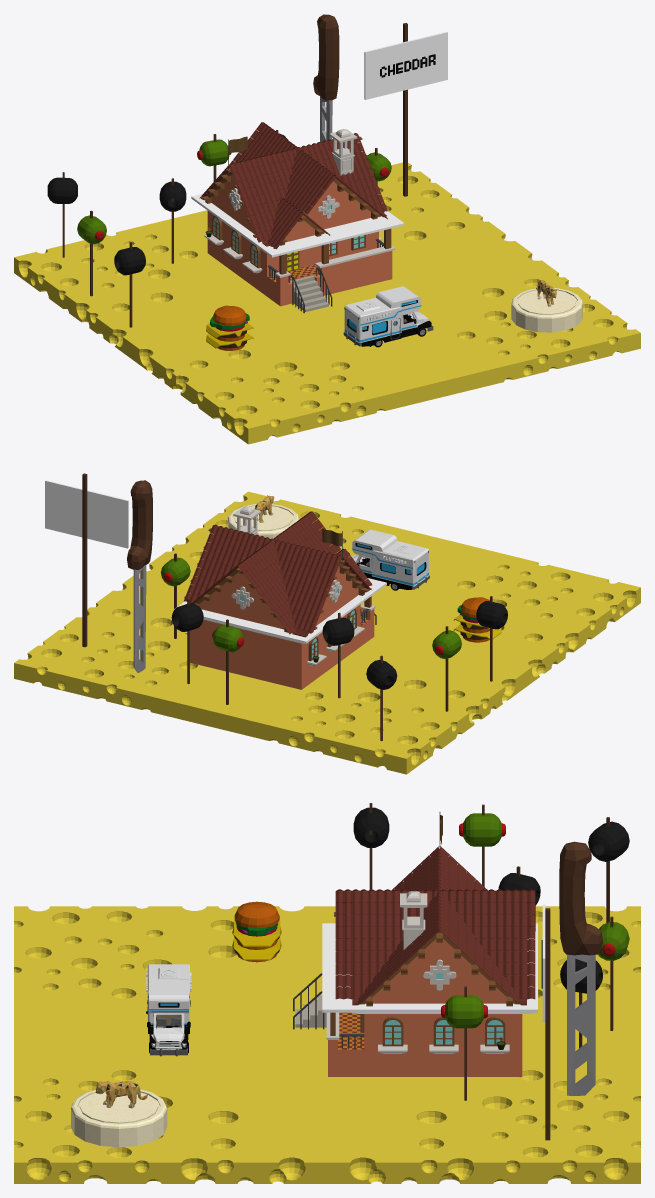
3 views of the same model, one above another, from view 1: azimuth 30°, elevation 25°; view 2: azimuth 150°, elevation 25°; view 3: azimuth 270°, elevation 25° (orthographic). The views are drawn at different scales.
Visible parts, largest first — view 1: Cube.022, Cube.1141, Cube.023, VEHICLES_CAMPER, Cylinder.016, Cube.024, OBJRANDOM_HAMBURGER, Sphere.017, Sphere.016, Sphere.020, Sphere.018, Sphere.022; view 2: Cube.022, Cube.1141, Cube.023, VEHICLES_CAMPER, Cube.024, Cylinder.016, OBJRANDOM_HAMBURGER, Sphere.017, Sphere.020, Sphere.021, Sphere.016, Sphere.018 (+2 smaller); view 3: Cube.022, Cube.1141, Cube.024, Cylinder.016, VEHICLES_CAMPER, OBJRANDOM_HAMBURGER, Cube.023, Sphere.019, Sphere.016, Sphere.018, Sphere.017, Sphere.022 (+3 smaller).
Boxes of the visible parts, x1,y1,x2,y2 form: Cube.022: (14, 162, 640, 444); Cube.1141: (191, 122, 404, 313); Cube.023: (364, 23, 447, 196); VEHICLES_CAMPER: (343, 286, 433, 347); Cylinder.016: (511, 288, 582, 332); Cube.024: (313, 14, 339, 142); OBJRANDOM_HAMBURGER: (206, 305, 253, 350); Sphere.017: (114, 242, 145, 327); Sphere.016: (47, 172, 77, 257); Sphere.020: (159, 178, 186, 263); Sphere.018: (77, 210, 106, 296); Sphere.022: (197, 134, 231, 181); Cube.022: (14, 491, 640, 774); Cube.1141: (174, 506, 386, 689); Cube.023: (45, 473, 128, 647); VEHICLES_CAMPER: (352, 529, 429, 590); Cube.024: (127, 480, 152, 672); Cylinder.016: (228, 504, 298, 538); OBJRANDOM_HAMBURGER: (453, 597, 501, 642); Sphere.017: (476, 596, 507, 681); Sphere.020: (322, 612, 354, 698); Sphere.021: (171, 598, 203, 683); Sphere.016: (366, 655, 397, 741); Sphere.018: (432, 626, 461, 711); Cube.022: (14, 906, 640, 1183); Cube.1141: (293, 812, 537, 1076); Cube.024: (559, 841, 602, 1095); Cylinder.016: (71, 1089, 167, 1147); VEHICLES_CAMPER: (146, 964, 191, 1056); OBJRANDOM_HAMBURGER: (232, 901, 281, 962); Cube.023: (541, 904, 550, 1140); Sphere.019: (441, 986, 487, 1100); Sphere.016: (588, 817, 629, 922); Sphere.018: (459, 804, 505, 888); Sphere.017: (353, 803, 389, 889); Sphere.022: (598, 916, 629, 1030).
Bounding box in the file's own units: 3917 × 2030 × 4000.
Materials: 47 (4 with a texture image).
